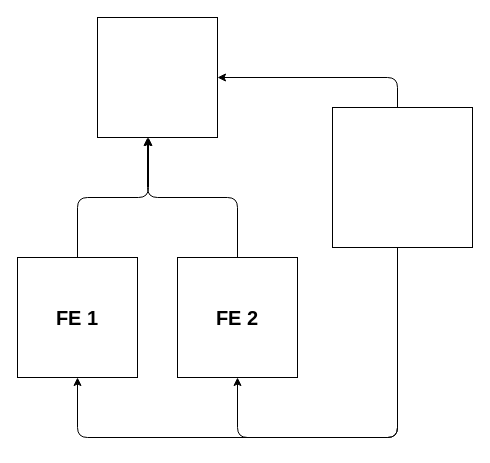
Some shapes in this 490 by 463 pixel diagram are drawn without their labels. Here are the shapes that lost their labels. From the top down, the centre of each, then its label:
At (x=157, y=77): "Container".
At (x=402, y=177): "Shared (styles & components)".
